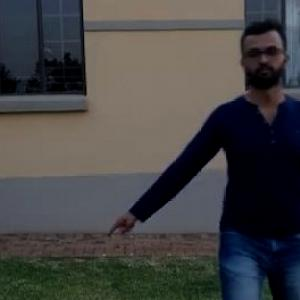land: (119, 48, 299, 299)
